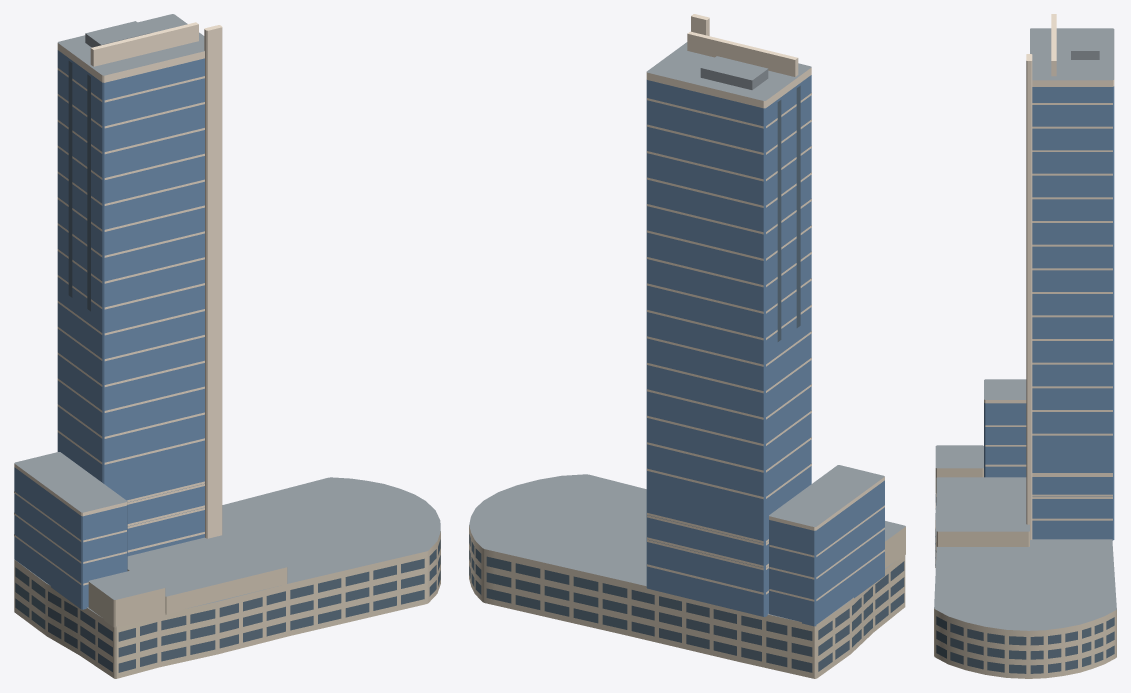
Rendered from mia-four-seasons.glb.
3 renders of one model, left to right at view 1: azimuth 30°, elevation 25°; view 2: azimuth 150°, elevation 25°; view 3: azimuth 270°, elevation 25°, orthographic. The views are drawn at different scales.
Parts seen in each view (by area): view 1: Four Seasons Hotel & Tower Miami; view 2: Four Seasons Hotel & Tower Miami; view 3: Four Seasons Hotel & Tower Miami.
Part boxes in pixels (x1,y1,x2,y2): Four Seasons Hotel & Tower Miami: [14, 14, 440, 678]; Four Seasons Hotel & Tower Miami: [469, 14, 905, 678]; Four Seasons Hotel & Tower Miami: [934, 14, 1116, 678].
Bounding box in the file's own units: 161 × 241 × 75.83.
